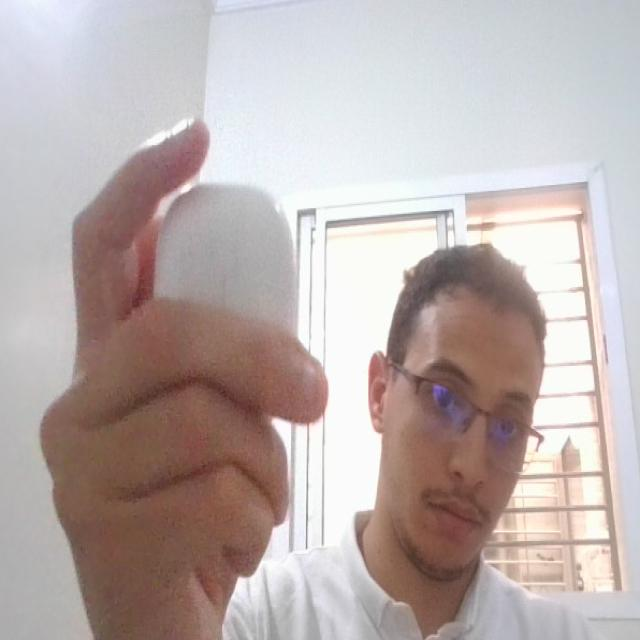airpods: (155, 174, 308, 405)
